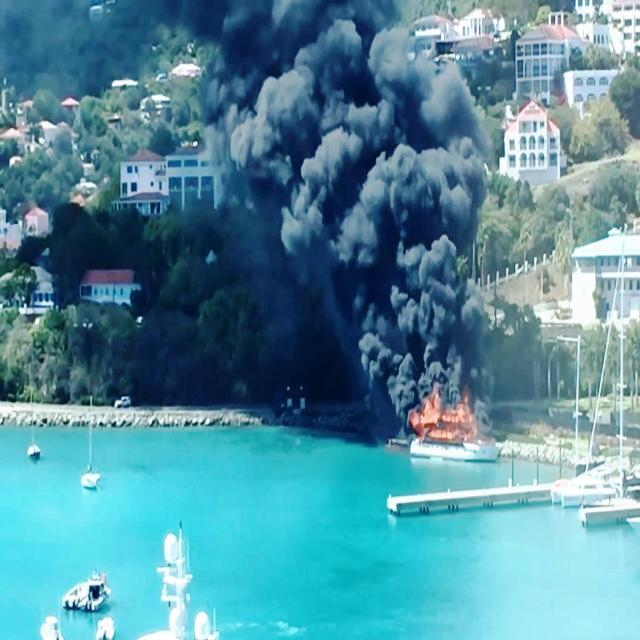Fire: (404, 384, 464, 447)
Smoke: (318, 35, 445, 308)
